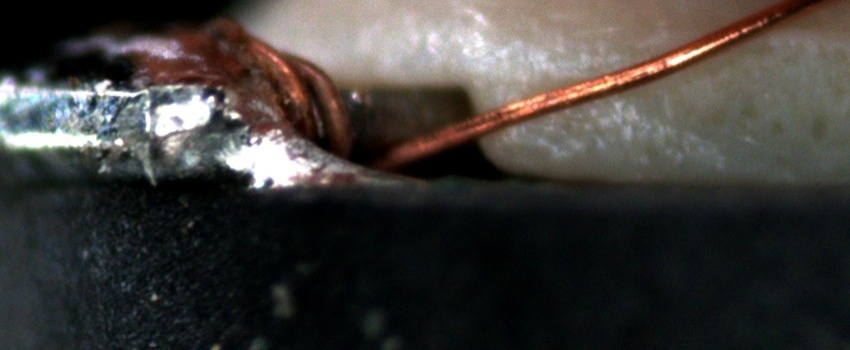TE: (252, 29, 366, 167)
